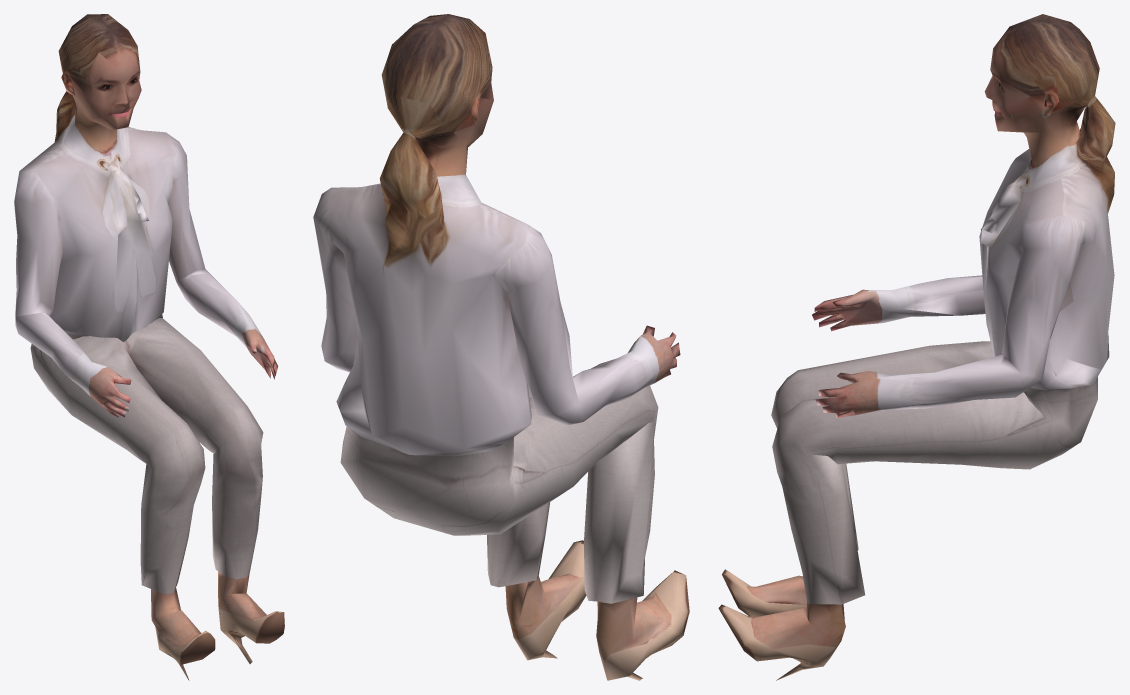
Rendered from ClaudiaNear.fbx.
3 renders of one model, left to right at view 1: azimuth 30°, elevation 25°; view 2: azimuth 150°, elevation 25°; view 3: azimuth 270°, elevation 25°, orthographic. The views are drawn at different scales.
Parts seen in each view (by area): view 1: rp_claudia_rigged_002_geo.001; view 2: rp_claudia_rigged_002_geo.001; view 3: rp_claudia_rigged_002_geo.001.
Part boxes in pixels (bbox=[...]): rp_claudia_rigged_002_geo.001: bbox=[14, 14, 284, 680]; rp_claudia_rigged_002_geo.001: bbox=[313, 14, 689, 680]; rp_claudia_rigged_002_geo.001: bbox=[718, 14, 1115, 680].
Bounding box in the file's own units: 47.89 × 136 × 75.88.
1 material, 1 textured.
